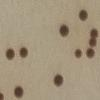black: (59, 24, 70, 38), (5, 47, 16, 61), (53, 74, 64, 88), (78, 9, 88, 23), (14, 86, 24, 100), (19, 47, 29, 58), (85, 48, 95, 59), (74, 47, 82, 60), (88, 38, 98, 48), (89, 28, 98, 38), (0, 91, 4, 100)
